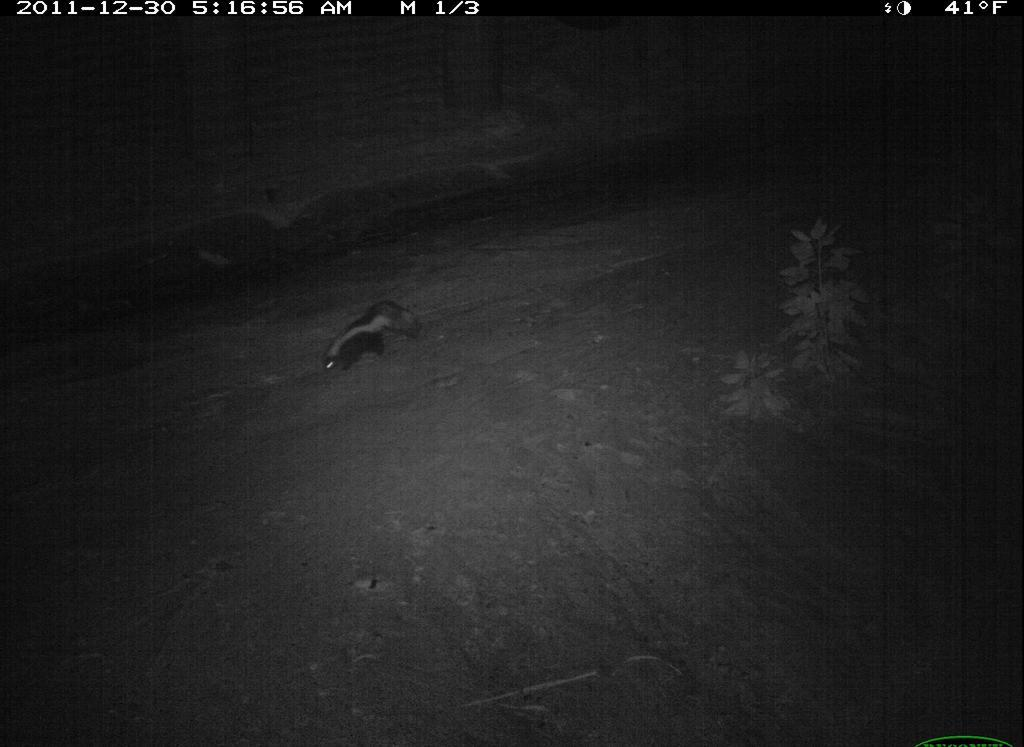skunk: (313, 294, 434, 387)
